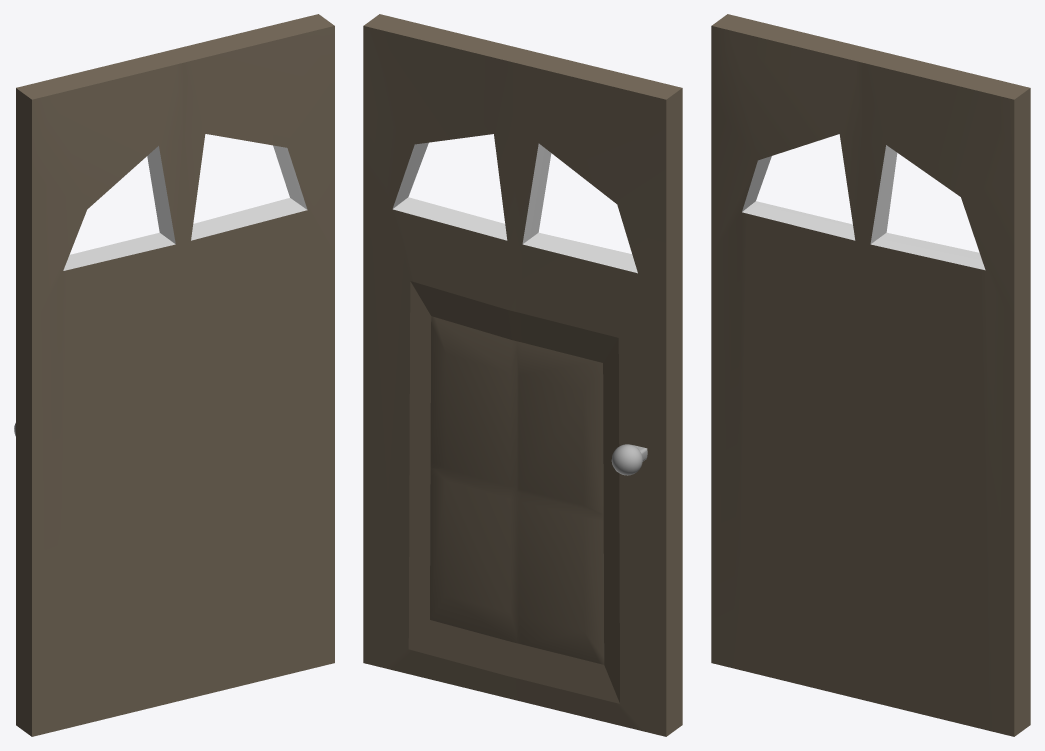
File: porte_entree.fbx
The picture shows the model from 3 angles, left to right: view 1: azimuth 30°, elevation 25°; view 2: azimuth 150°, elevation 25°; view 3: azimuth 330°, elevation 25°; orthographic projection.
Parts seen in each view (by area): view 1: pSphere9; view 2: pSphere9; view 3: pSphere9.
Boxes of the visible parts, x1,y1,x2,y2 form: pSphere9: [14, 14, 334, 736]; pSphere9: [363, 14, 682, 736]; pSphere9: [711, 14, 1030, 736].
Size of the model in its own units: 7.72 by 15.53 by 1.81.
